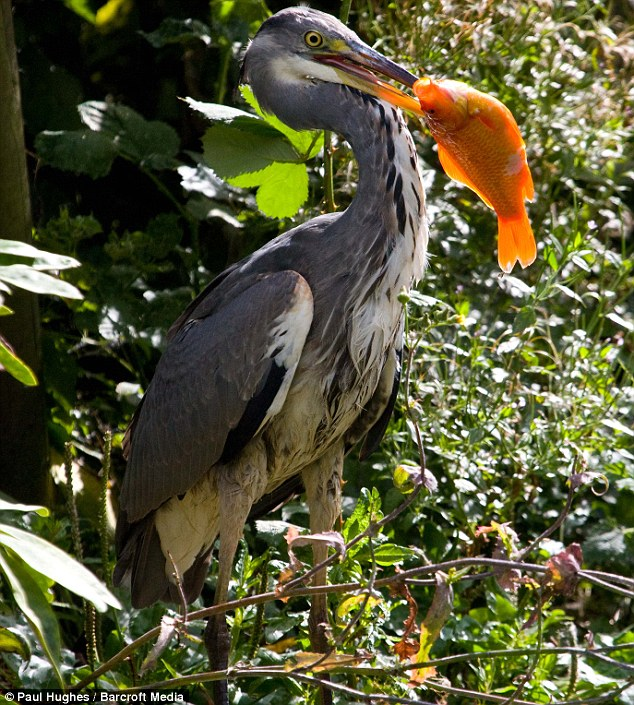heron: (119, 12, 514, 705)
